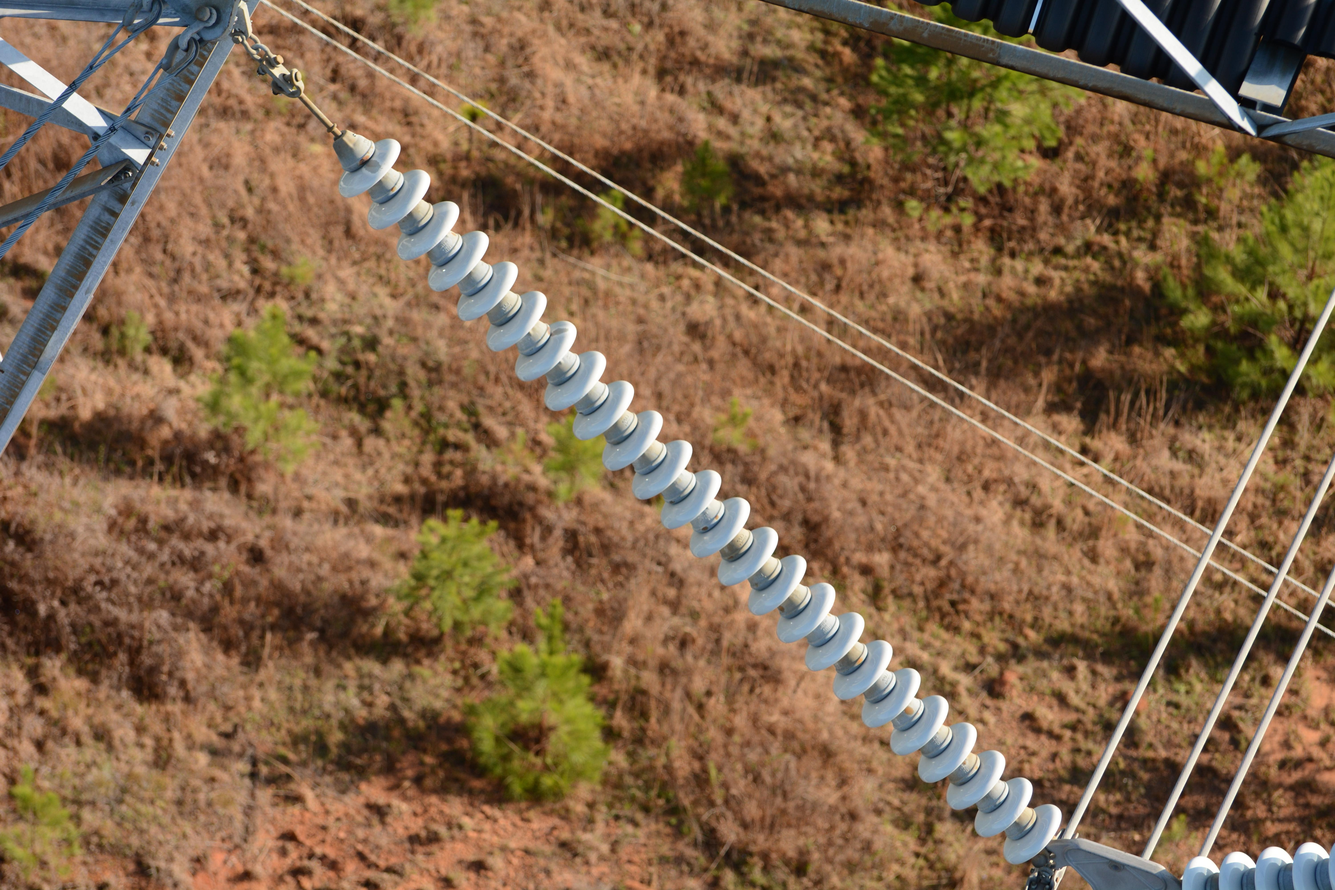Flashover: (360, 156, 385, 175), (546, 323, 572, 340)
insulator: (336, 136, 1057, 862), (1175, 839, 1335, 890)
